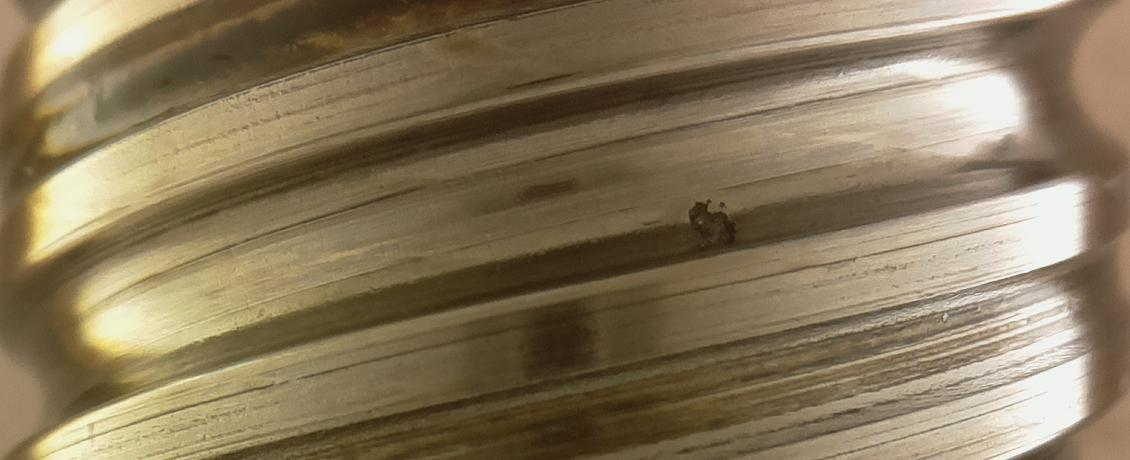pitting: (688, 200, 736, 251)
